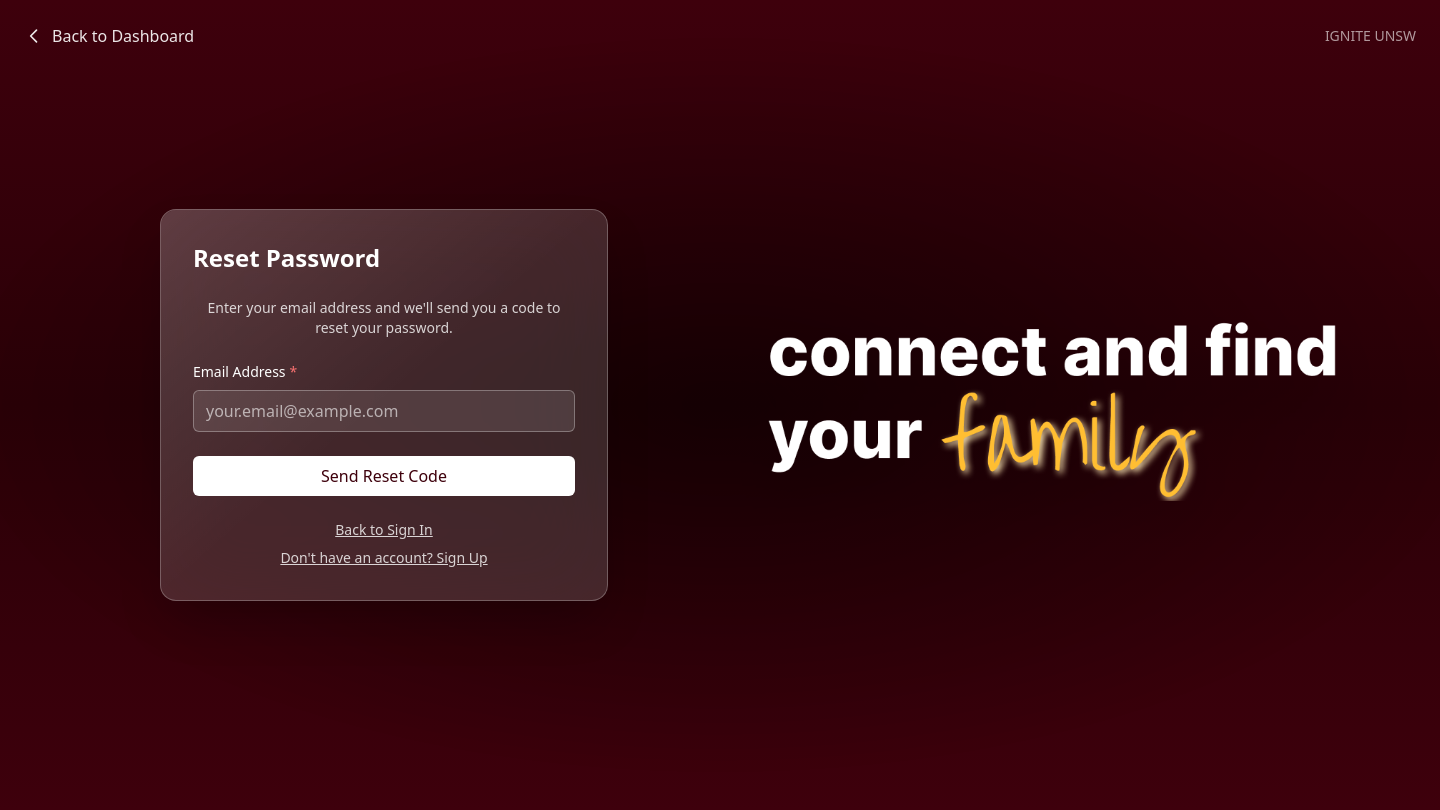
Test: RequestReset › shows default success message when no message provided
Step 1. Type "test@example.com" into the field labelled "Email Address*" → (384, 411), box [193,390,575,432]
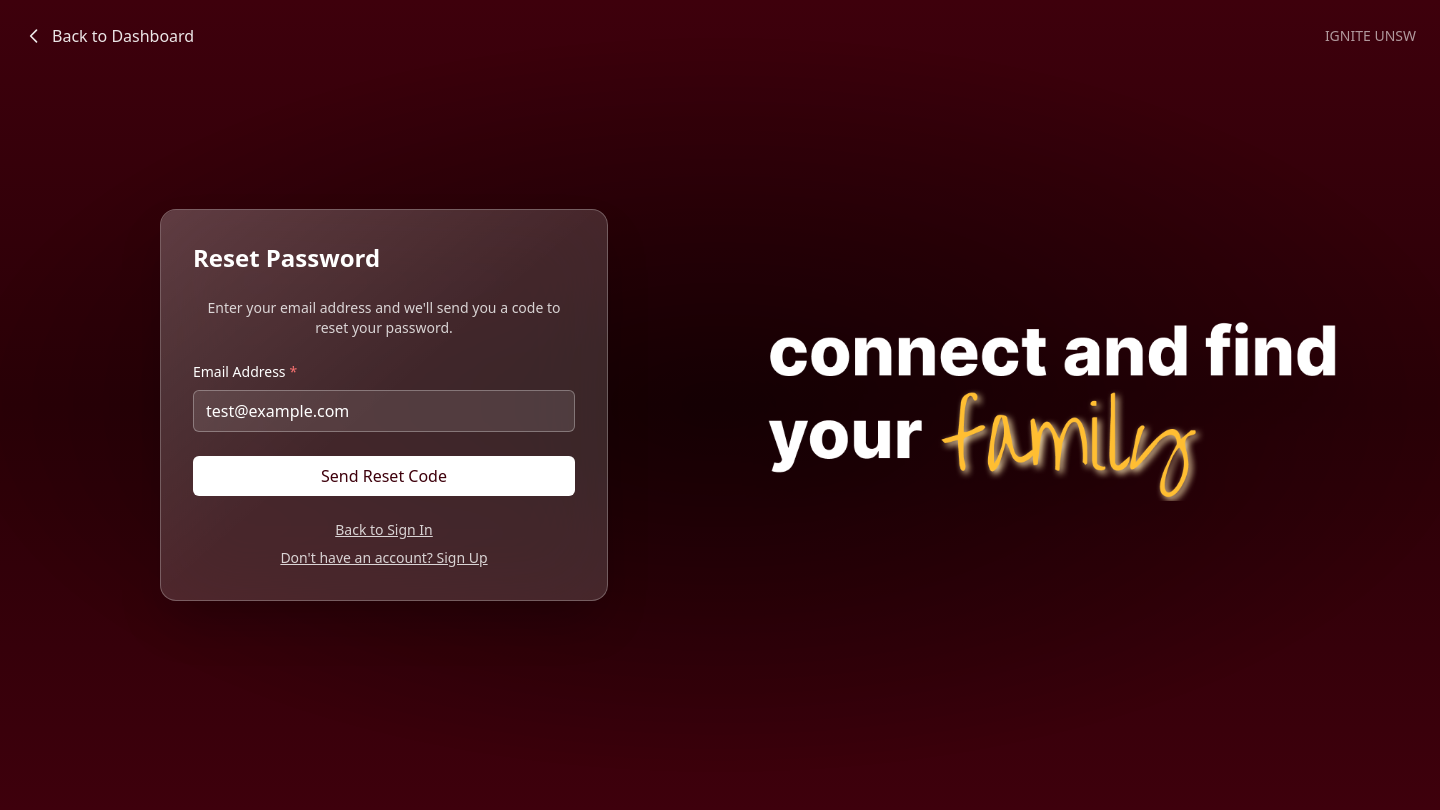
Step 2. Click the button "Send Reset Code" → (384, 476), box [193,456,575,496]
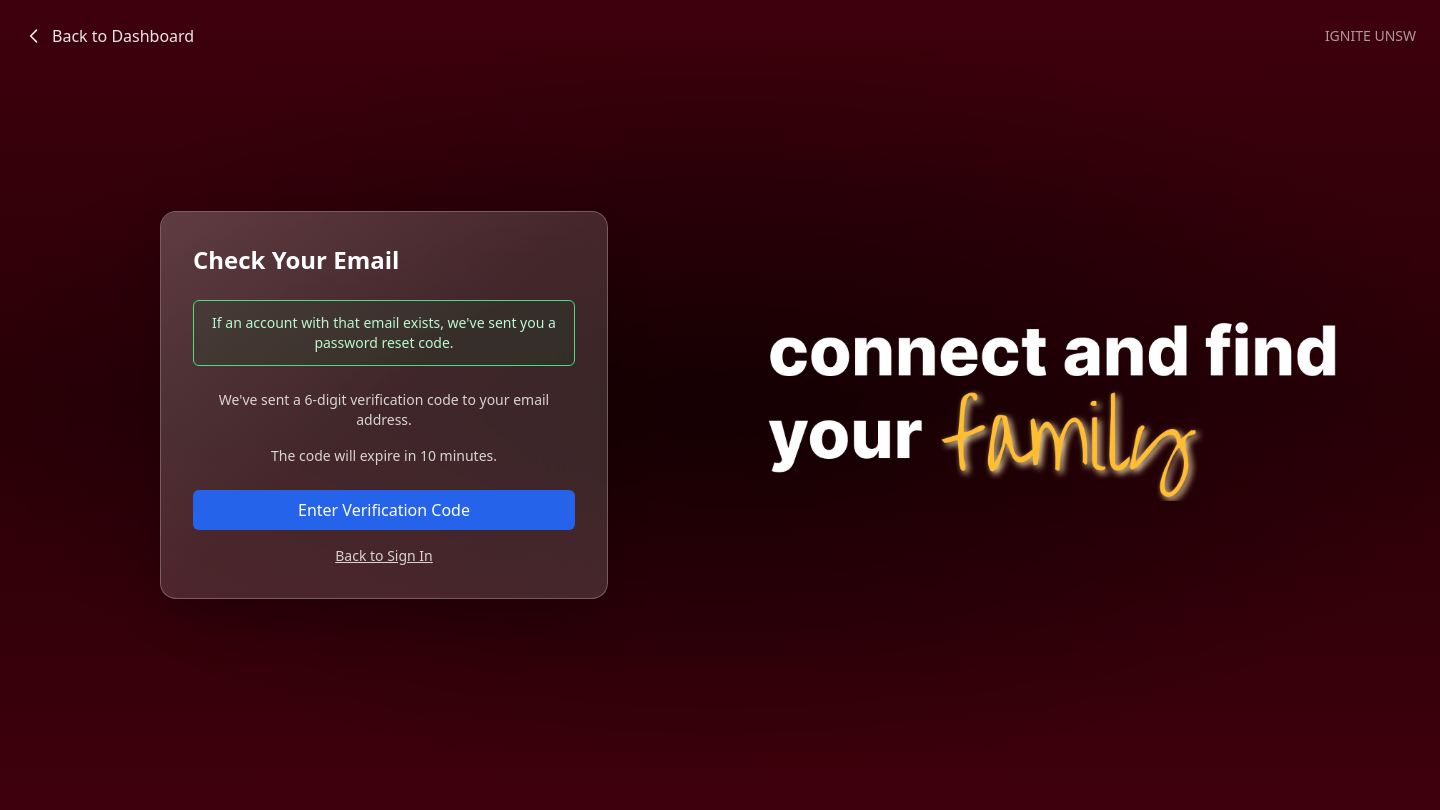
Now the text "If an account with that email exists, we've sent you a password reset code." is shown, box [193,300,575,366]
